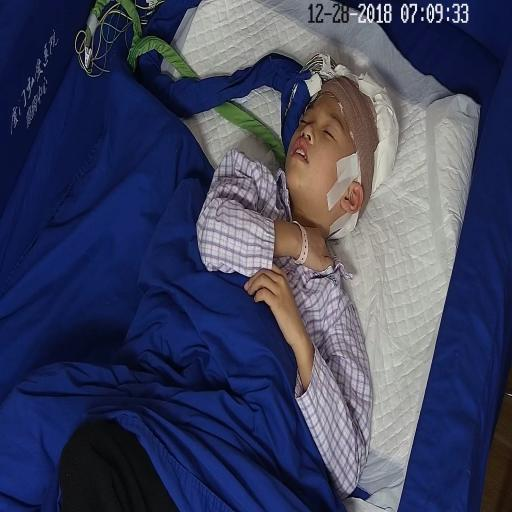Netural: (286, 78, 370, 235)
